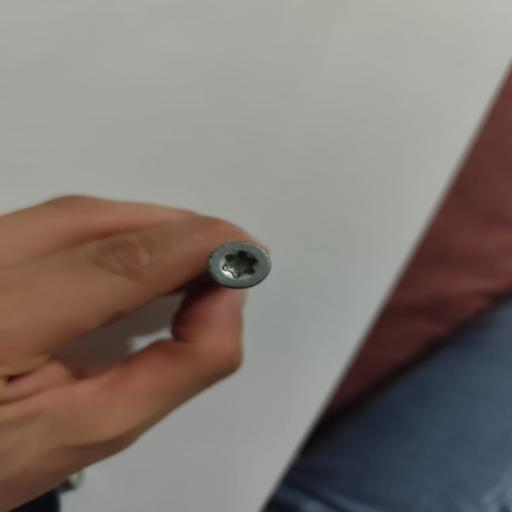Torx: (202, 237, 276, 288)
